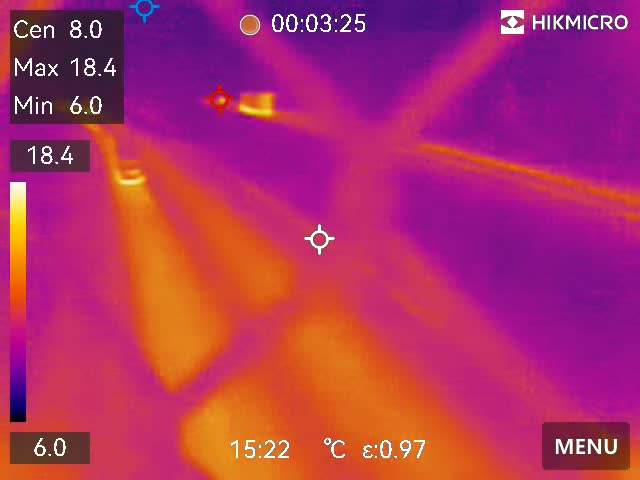heavyTruck: (232, 88, 287, 123)
